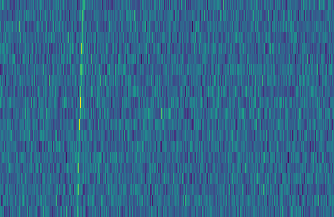signal: (70, 0, 85, 217)
